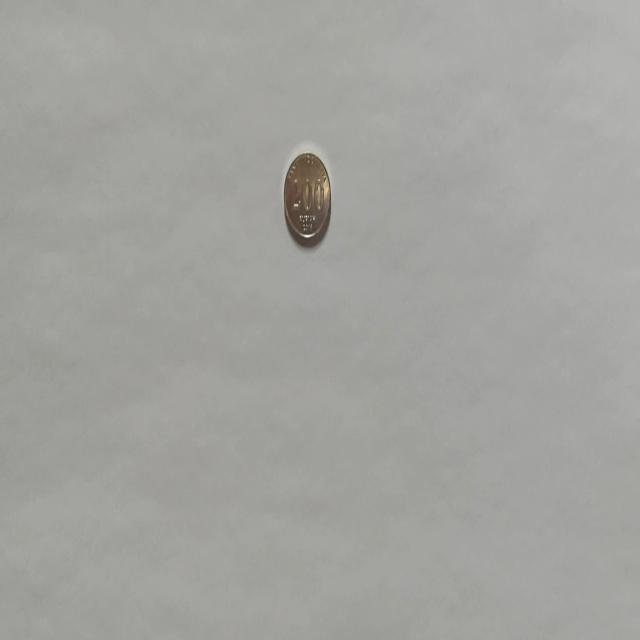dua ratus rupiah: (282, 150, 332, 246)
